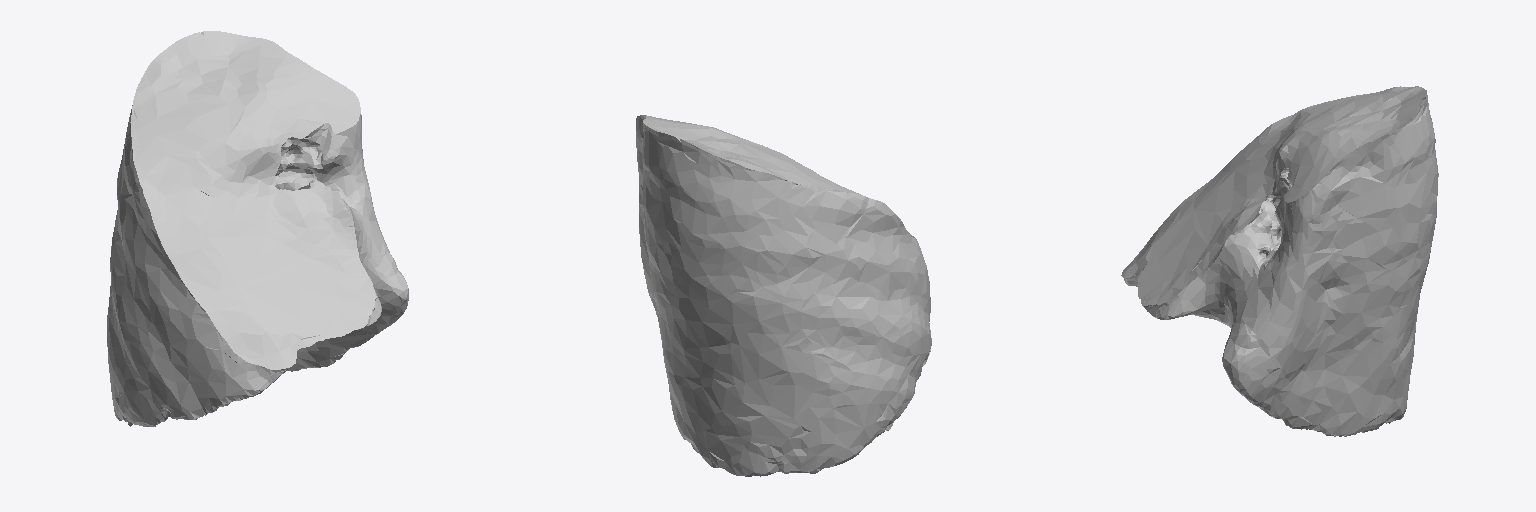
3 views of the same model, side by side, from view 1: azimuth 30°, elevation 25°; view 2: azimuth 150°, elevation 25°; view 3: azimuth 270°, elevation 25° (orthographic).
Visible parts, largest first — view 1: Polygonal_Model_2_Triangles_0; view 2: Polygonal_Model_2_Triangles_0; view 3: Polygonal_Model_2_Triangles_0.
Part boxes in pixels (x1,y1,x2,y2): Polygonal_Model_2_Triangles_0: (107,31,408,426); Polygonal_Model_2_Triangles_0: (636,115,931,476); Polygonal_Model_2_Triangles_0: (1121,86,1438,436).
Size of the model in its own units: 5.95 by 7.22 by 6.22.